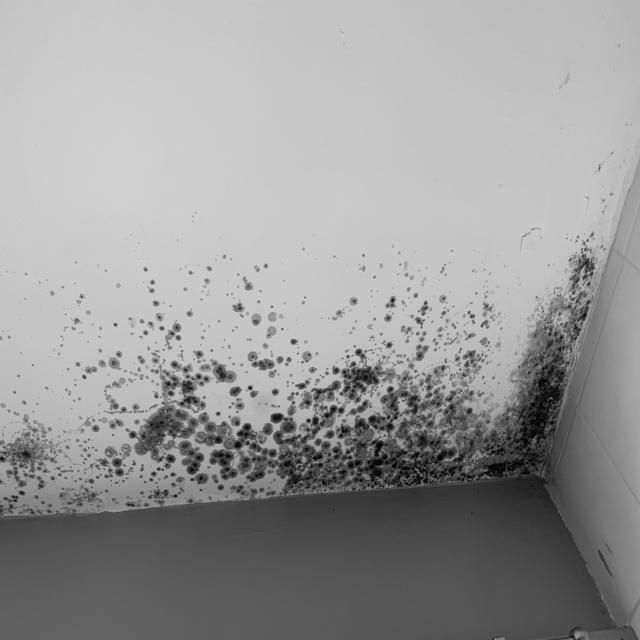stain marks: (0, 234, 612, 526), (492, 248, 594, 506), (555, 50, 640, 226), (575, 529, 630, 589)
